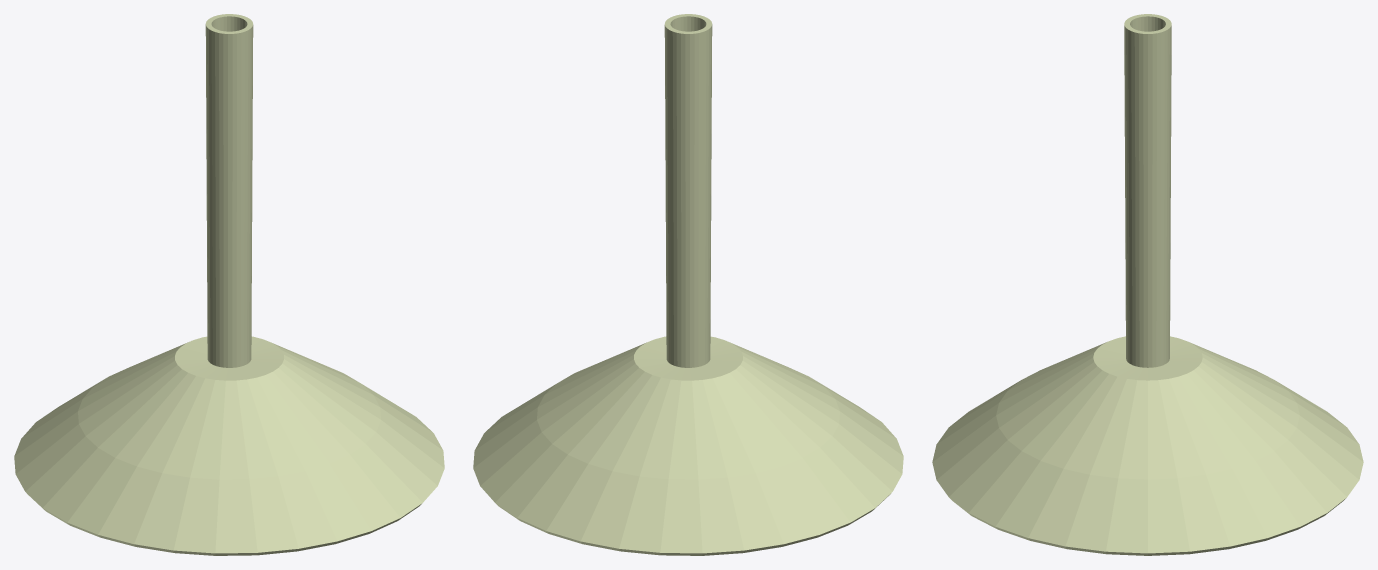
The model's file is Lamp.fbx.
The picture shows the model from 3 angles, left to right: view 1: azimuth 30°, elevation 25°; view 2: azimuth 150°, elevation 25°; view 3: azimuth 270°, elevation 25°; orthographic projection.
Parts seen in each view (by area): view 1: Lamp; view 2: Lamp; view 3: Lamp.
Boxes of the visible parts, <box> form: Lamp: <box>14,14,444,555</box>; Lamp: <box>473,14,903,555</box>; Lamp: <box>932,14,1363,555</box>.
Size of the model in its own units: 75.1 by 84.97 by 75.1.
